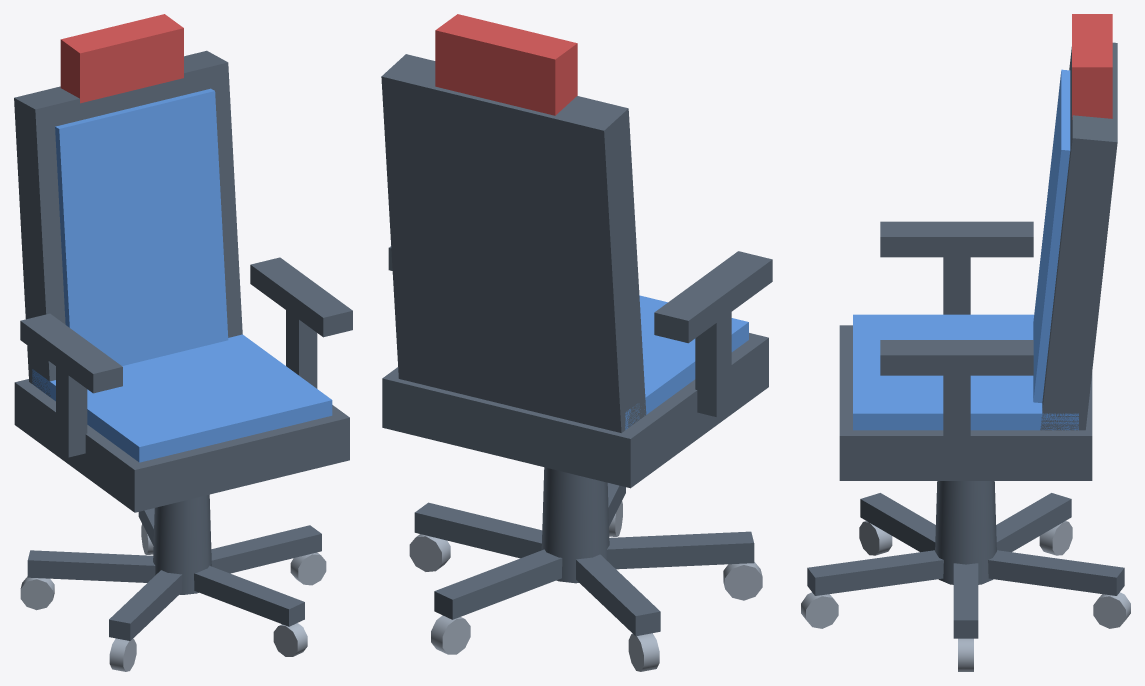
The model's file is chair_office_swivel.glb.
3 renders of one model, left to right at view 1: azimuth 30°, elevation 25°; view 2: azimuth 150°, elevation 25°; view 3: azimuth 270°, elevation 25°, orthographic. The views are drawn at different scales.
Visible parts, largest first — view 1: chair_swivel_pivot, chair_office_swivel; view 2: chair_swivel_pivot, chair_office_swivel; view 3: chair_swivel_pivot, chair_office_swivel.
Boxes of the visible parts, x1,y1,x2,y2 form: chair_swivel_pivot: [14, 14, 352, 512]; chair_office_swivel: [20, 494, 326, 671]; chair_swivel_pivot: [381, 14, 772, 488]; chair_office_swivel: [409, 467, 762, 671]; chair_swivel_pivot: [839, 14, 1117, 480]; chair_office_swivel: [801, 481, 1130, 671].
Bounding box in the file's own units: 0.728 × 1.38 × 0.7299.
